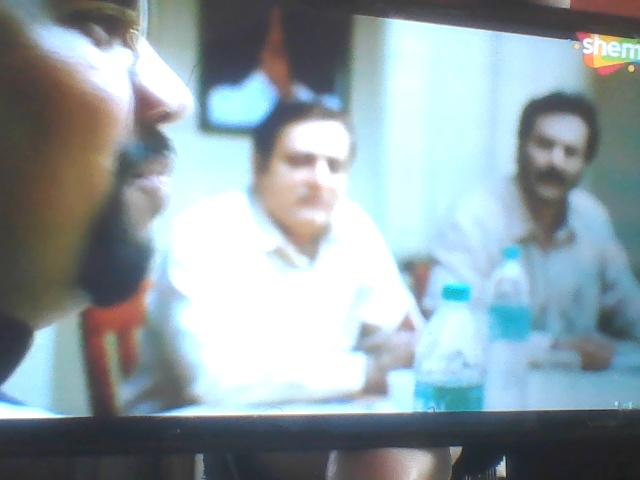fake: (253, 90, 362, 244)
